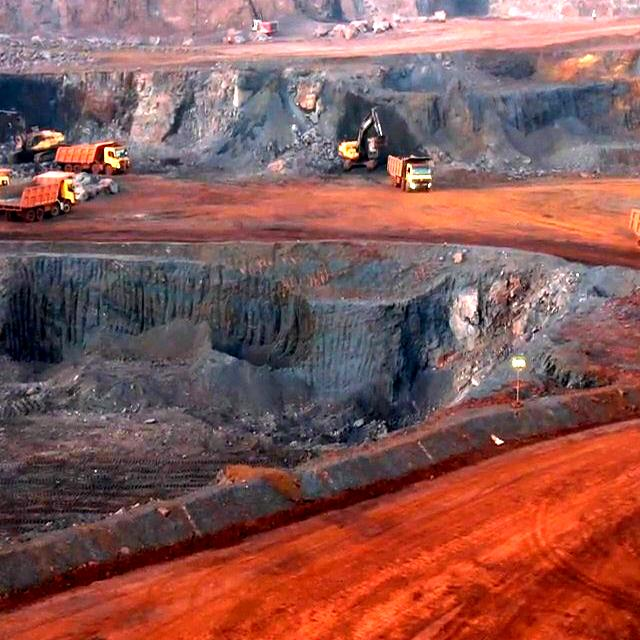Blast rig: (251, 16, 279, 36)
Dumper truck: (0, 173, 70, 214), (388, 155, 436, 193)
Excavator: (12, 127, 53, 162), (341, 138, 381, 166)
